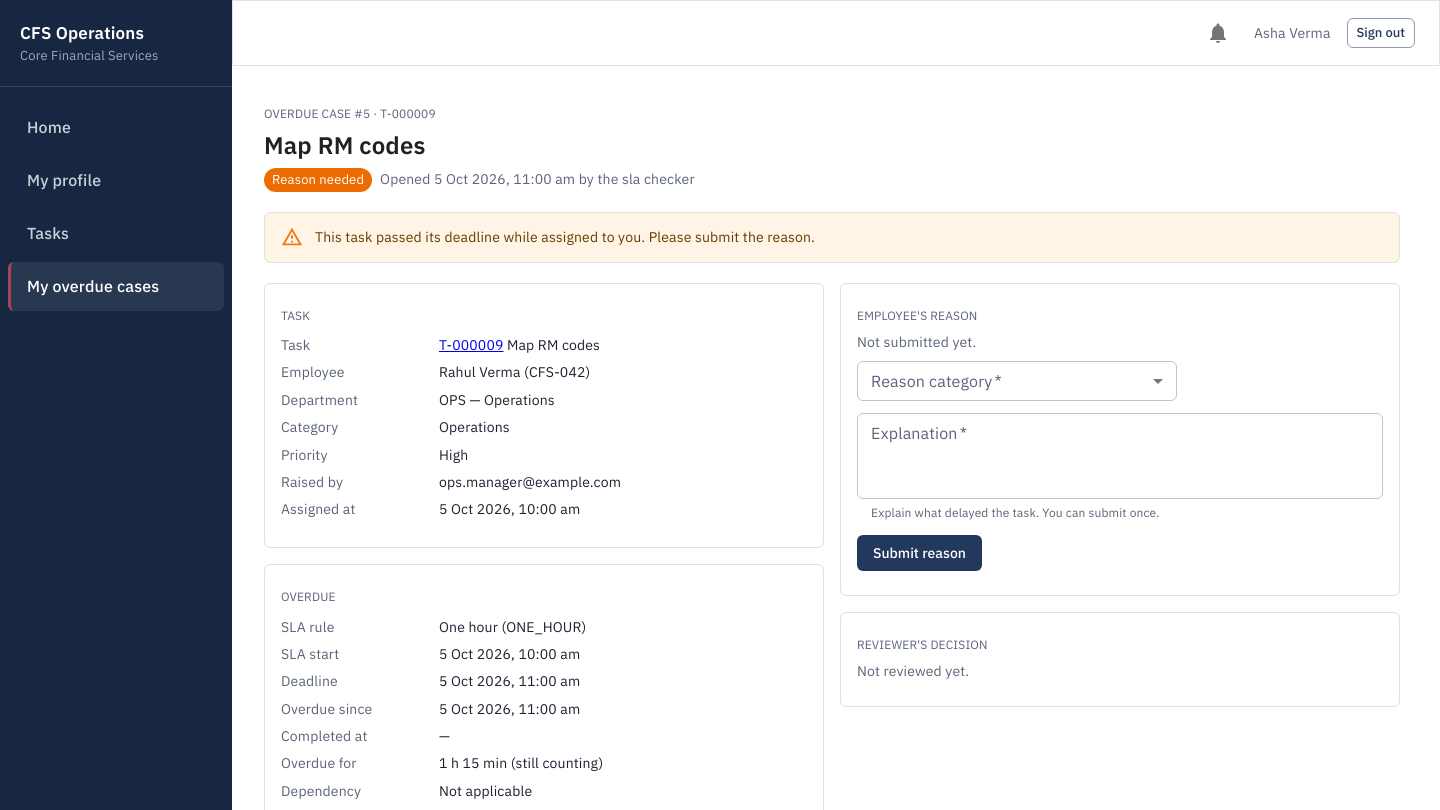
Test: Overdue case detail › shows a backend validation error on its field
Expected: the form named "Submit your reason" is shown, 857,361 -> 1383,571
Click the dropdown named "Reason category": (1017, 381) 857,361 -> 1177,401
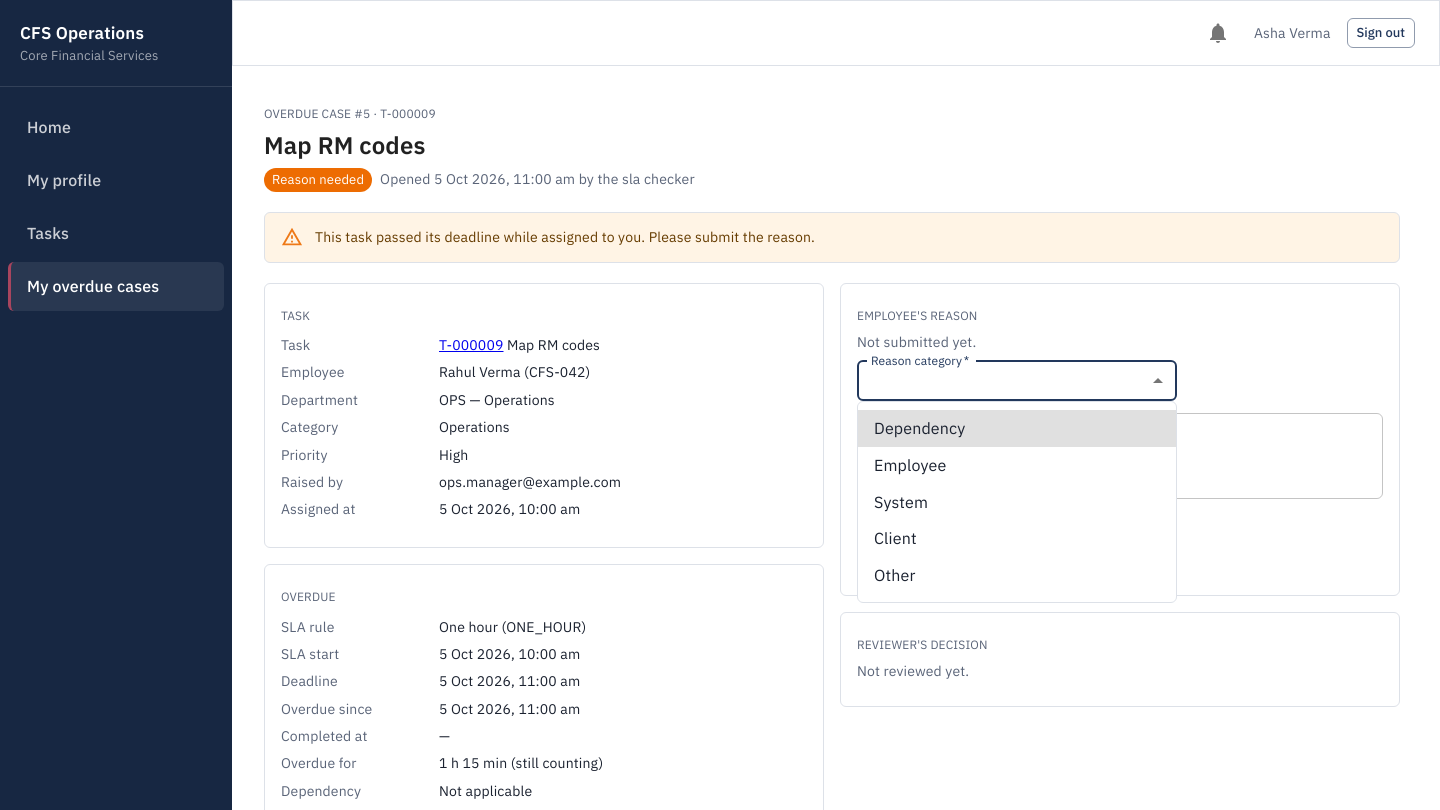
Click the option "Other": (895, 575) 874,565 -> 916,585
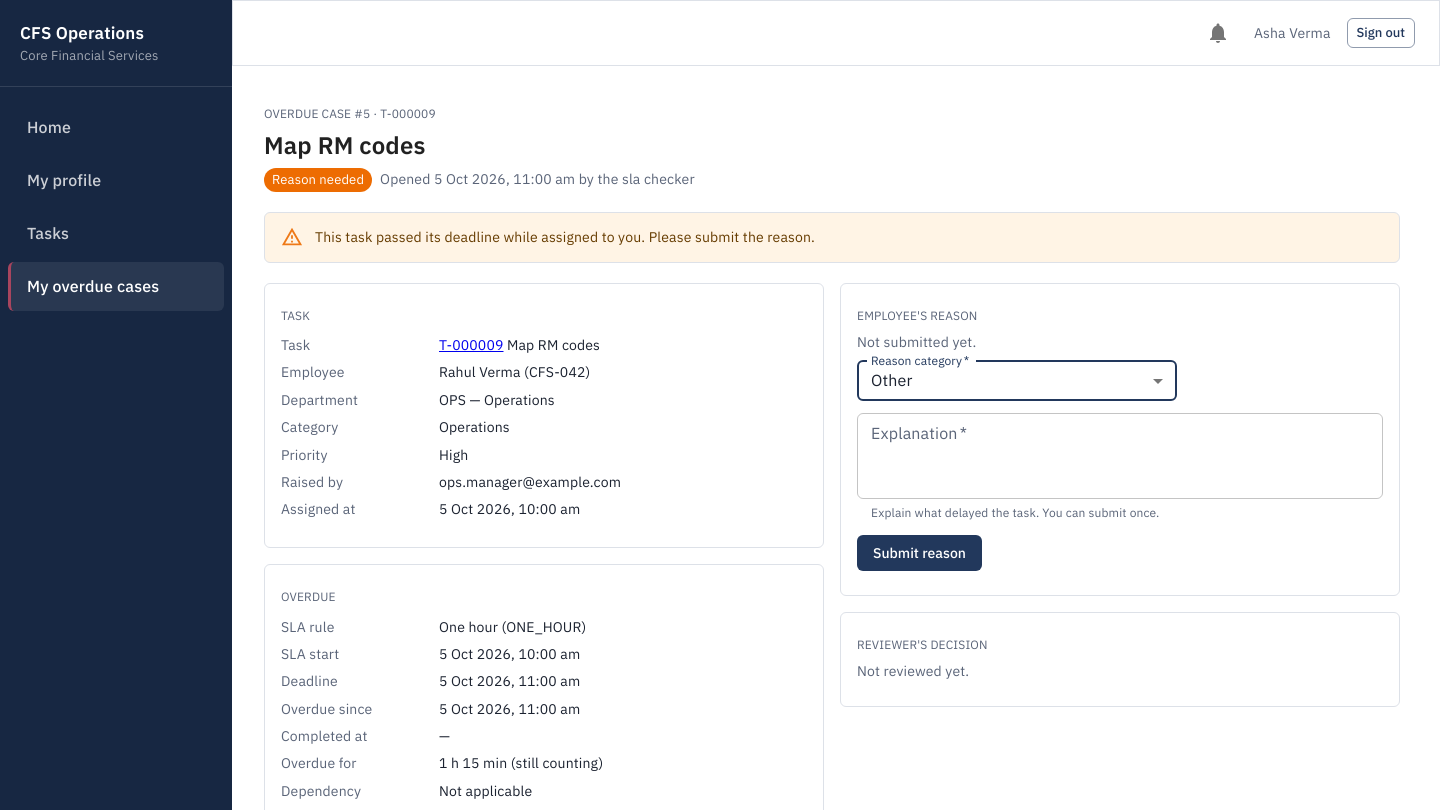
In the text box labelled "Explanation": (1120, 456) 871,421 -> 1369,490, type "x"
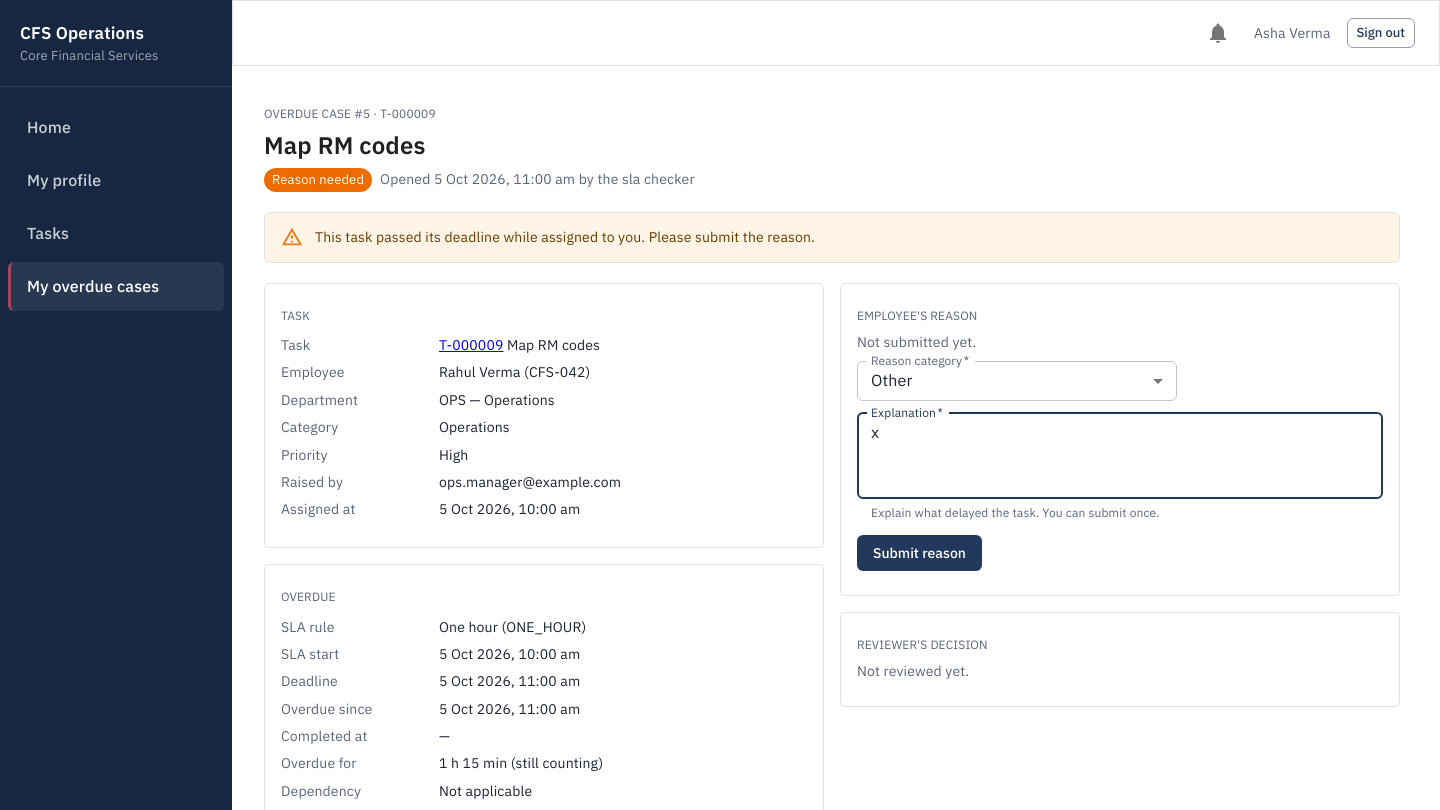
Click the button "Submit reason": (919, 553) 857,535 -> 982,571
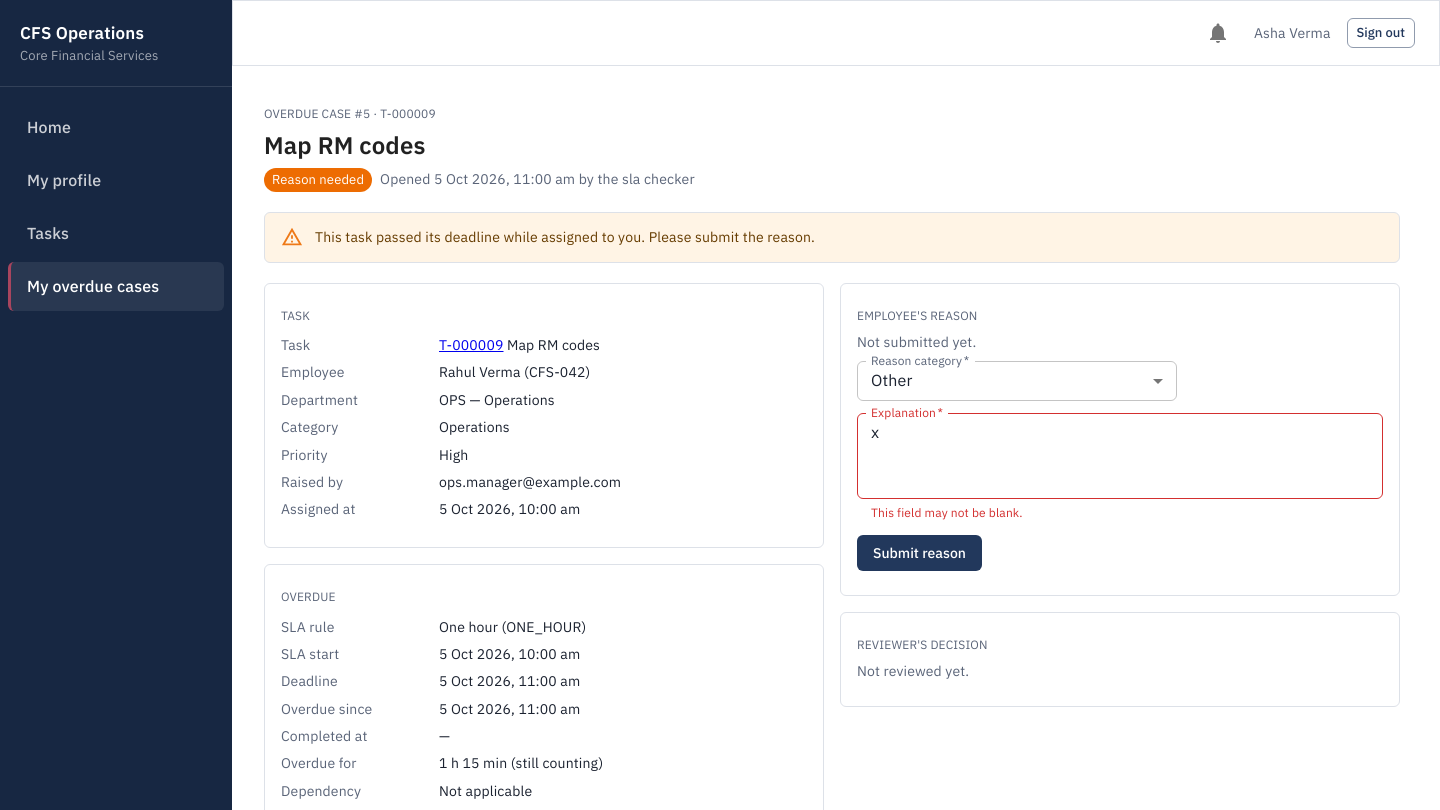
Expected: the form named "Submit your reason" is shown, 857,361 -> 1383,571
Now the text "This field may not be blank." is shown, box 871,505 -> 1023,520
